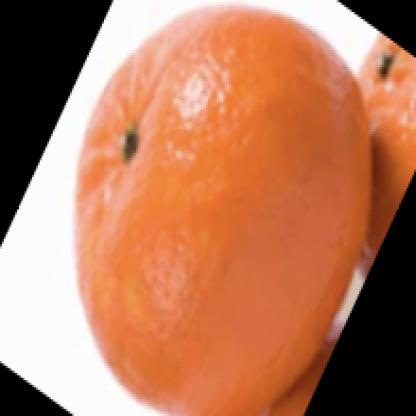fresh: (76, 10, 372, 416)
